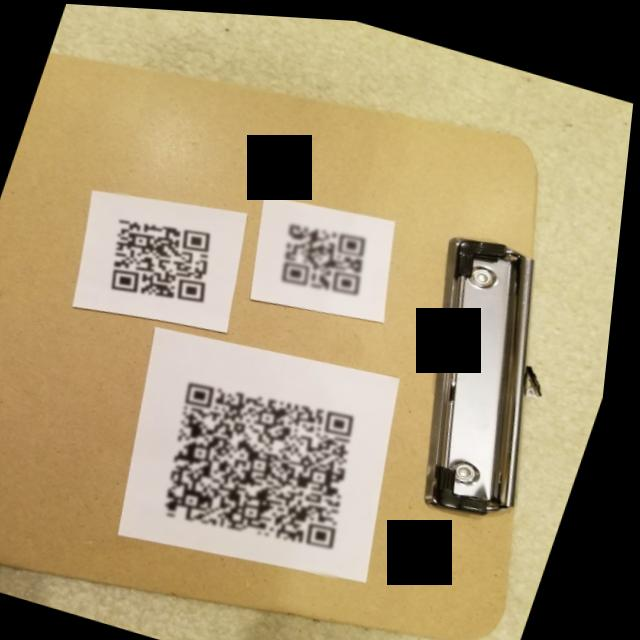QR_CODE: (134, 343, 406, 577), (86, 188, 250, 323), (261, 197, 399, 313)
